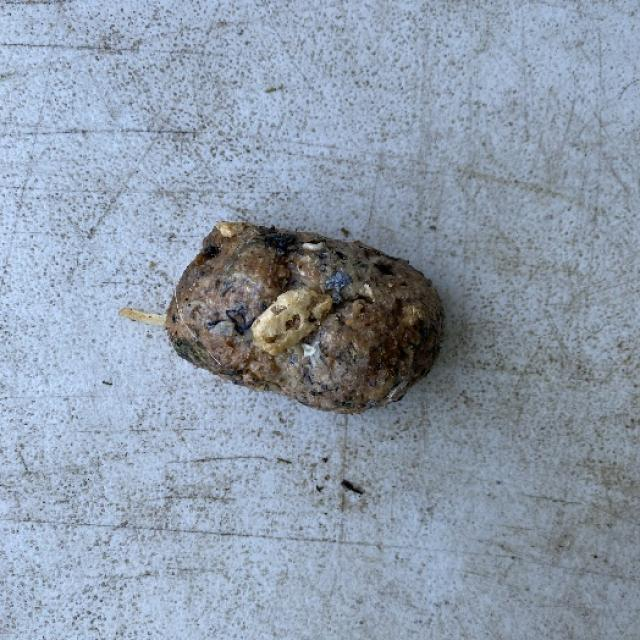organik: (157, 210, 460, 432)
